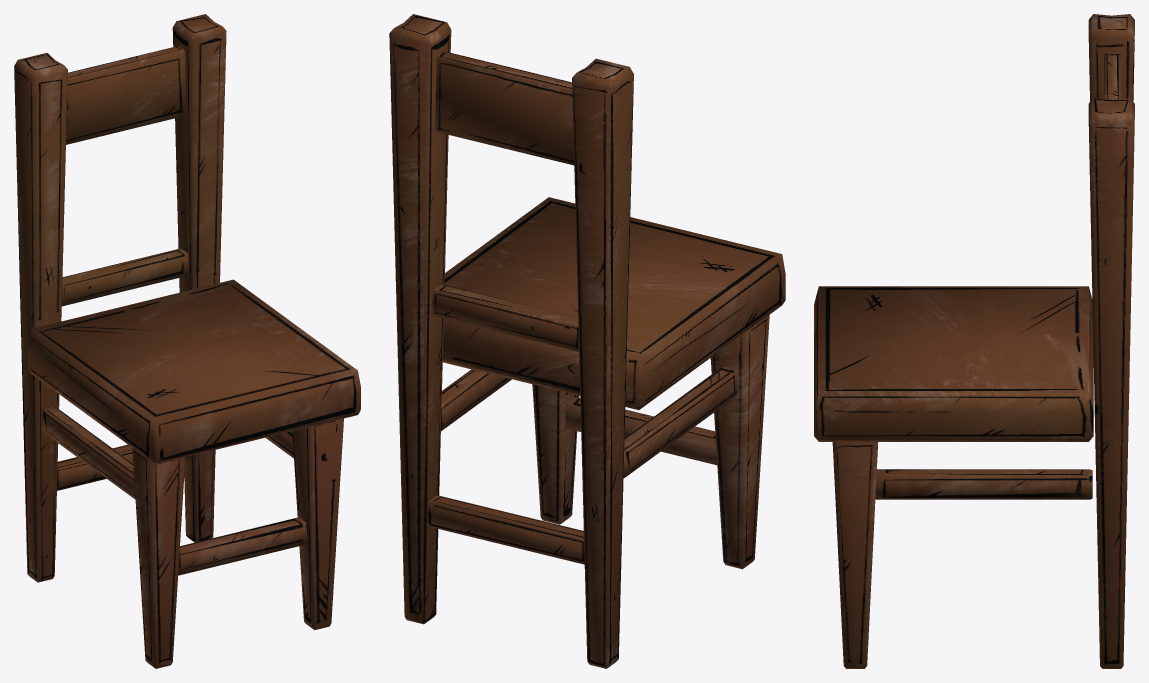
The model's file is Chair_A.glb.
3 renders of one model, left to right at view 1: azimuth 30°, elevation 25°; view 2: azimuth 150°, elevation 25°; view 3: azimuth 270°, elevation 25°, orthographic. The views are drawn at different scales.
Visible parts, largest first — view 1: Chair A; view 2: Chair A; view 3: Chair A.
Part boxes in pixels (x1,y1,x2,y2): Chair A: (14, 14, 360, 668); Chair A: (389, 14, 785, 668); Chair A: (814, 14, 1134, 668).
Bounding box in the file's own units: 2.06 × 4.87 × 2.53.
1 material, 1 textured.
